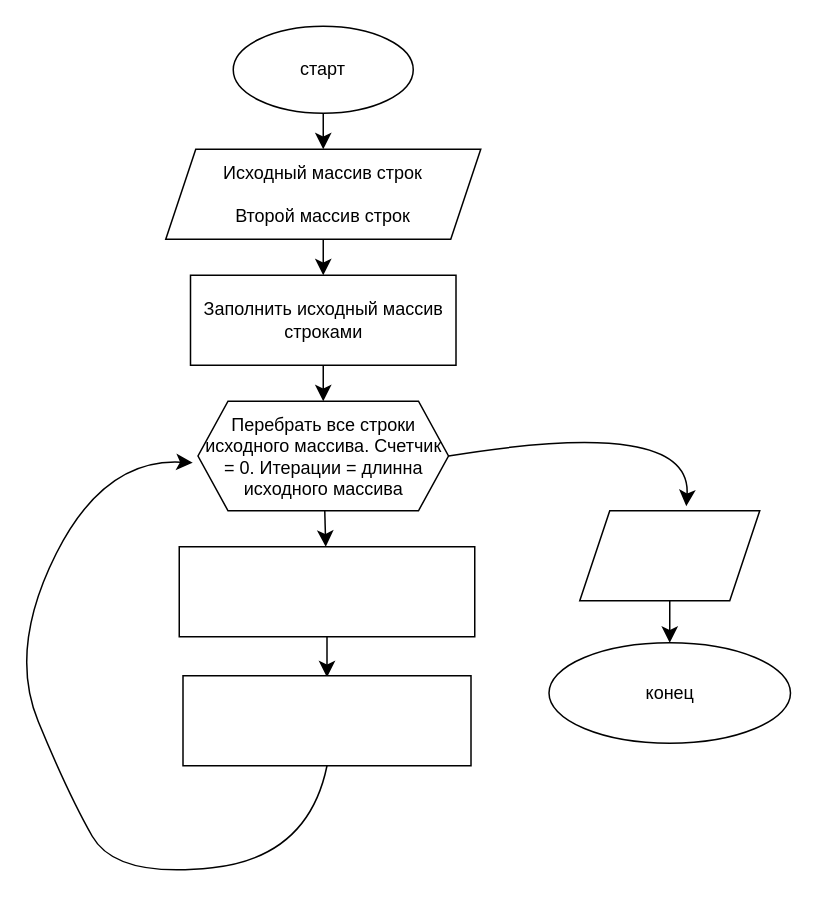
Some shapes in this 818 by 897 pixel diagram are drawn without their labels. The shapes that lost their labels are listed below. From the top down, each one's centre as x and y in pixels, then its label:
At pixel 669 555: "Новый массив".
At pixel 326 591: "Сформировать новую строку, с длинной > 3".
At pixel 326 720: "Добавить строку в новый массив".
